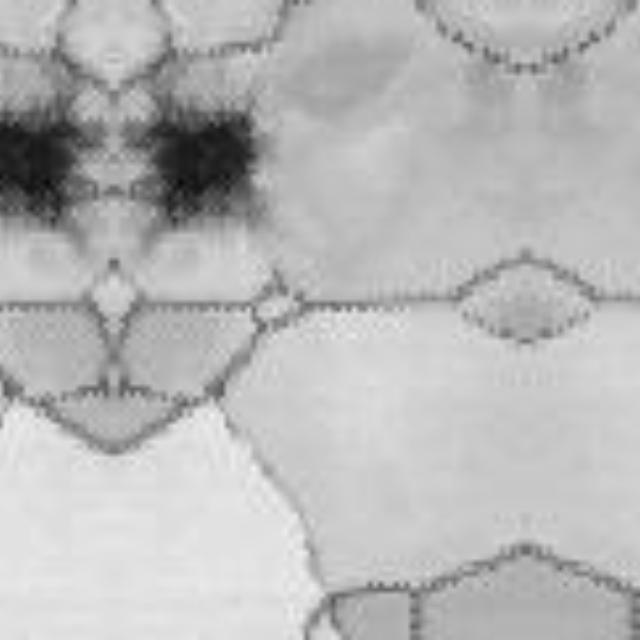good_void: (113, 91, 278, 259), (0, 91, 113, 259)
